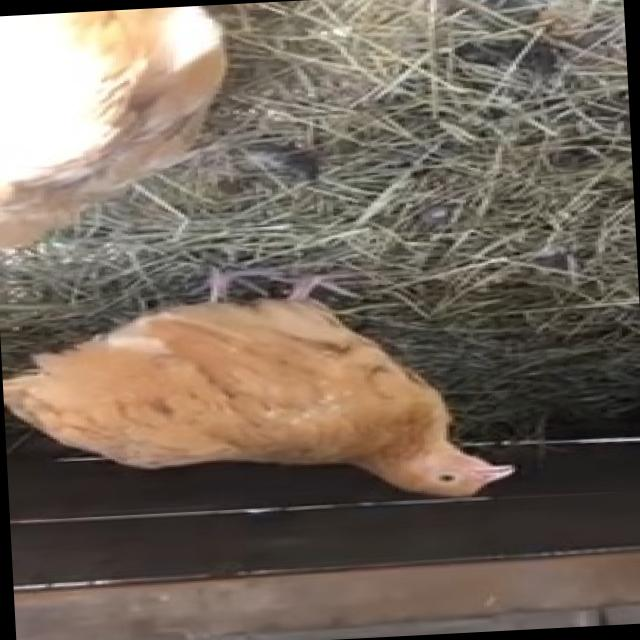Breathing: (0, 250, 522, 522)
